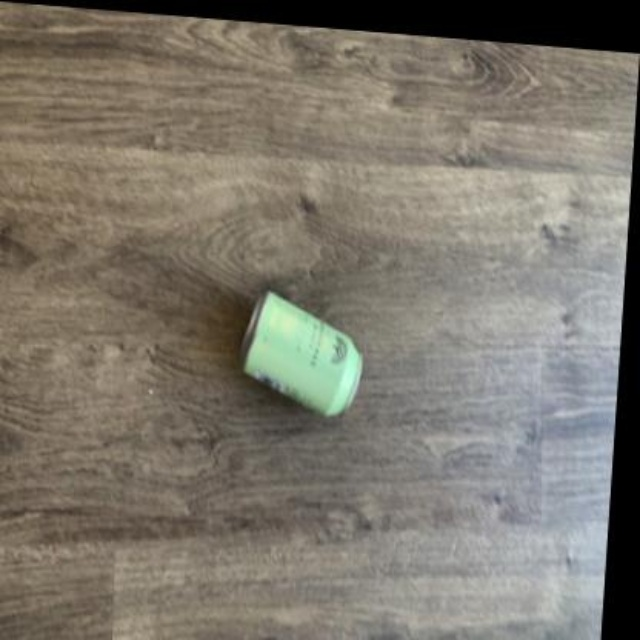trash: (242, 291, 362, 415)
